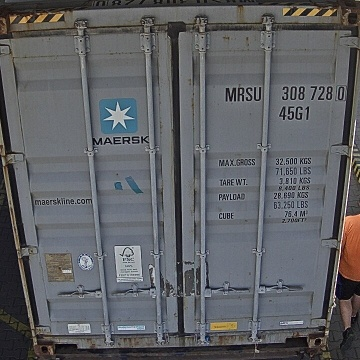serial_id: (226, 85, 346, 101)
